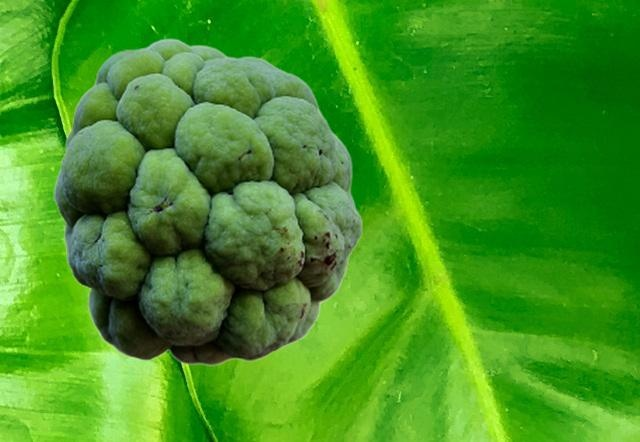atis: (53, 37, 362, 366)
